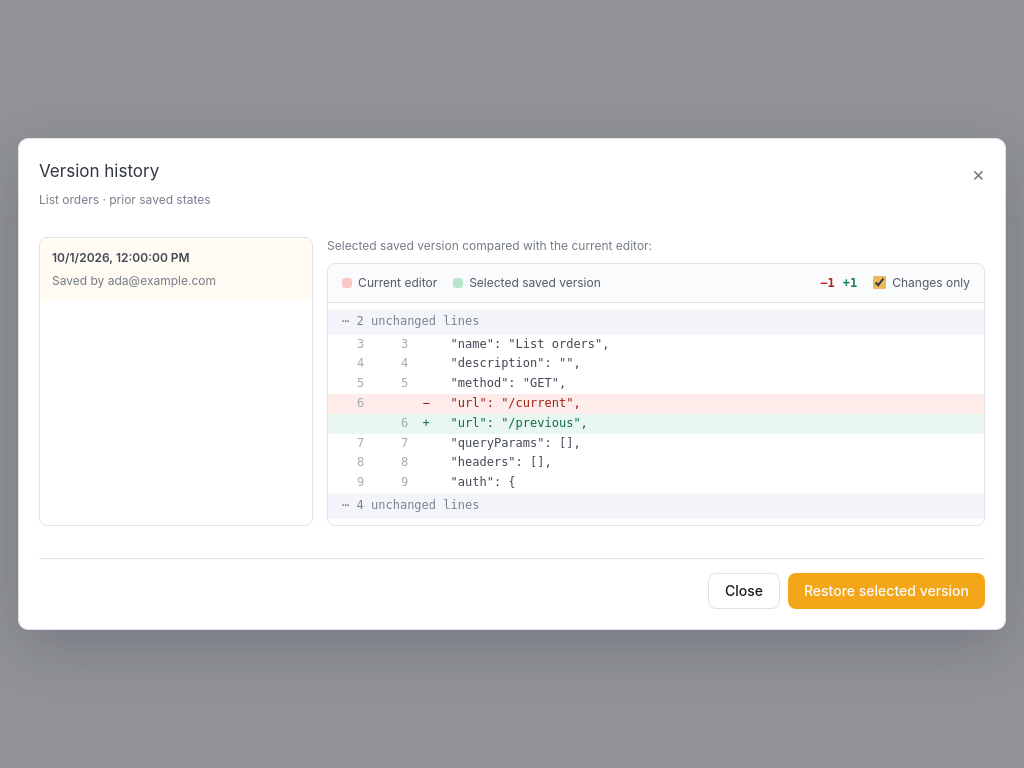
Test: resource version history › shows restore conflicts and does not update the resource on failure
The image size is (1024, 768).
Click the button "Restore selected version". click: (886, 591)
box: top-left (788, 573), bottom-right (985, 609)
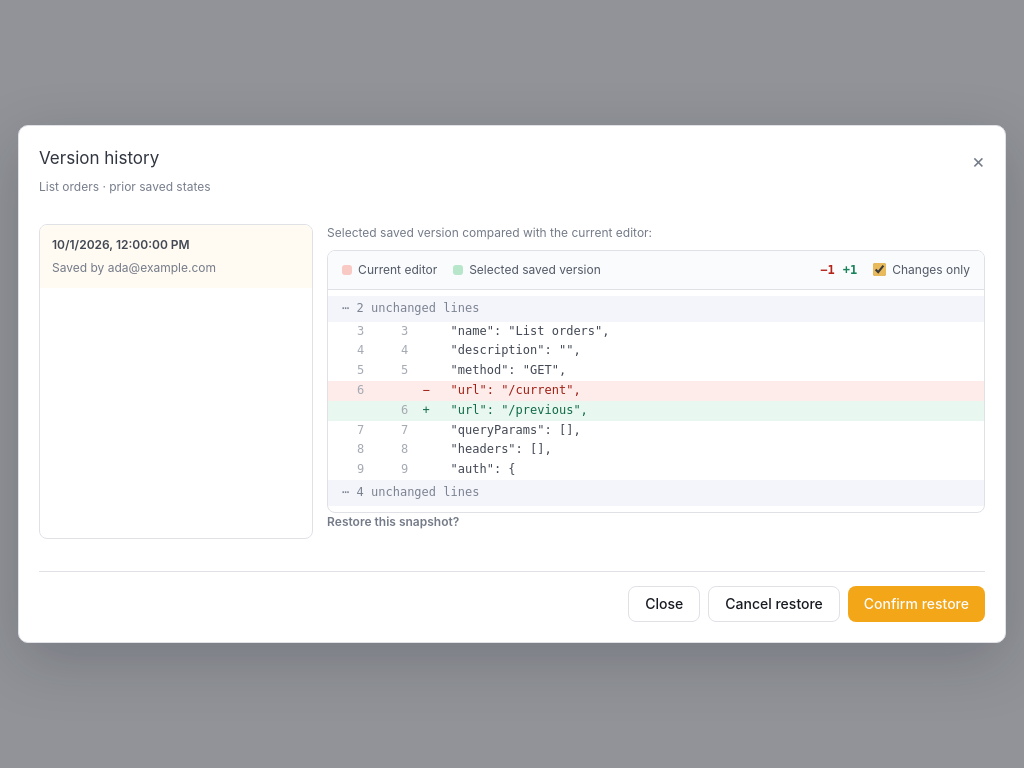
Click the button "Confirm restore". click: (916, 604)
box: top-left (848, 586), bottom-right (985, 622)
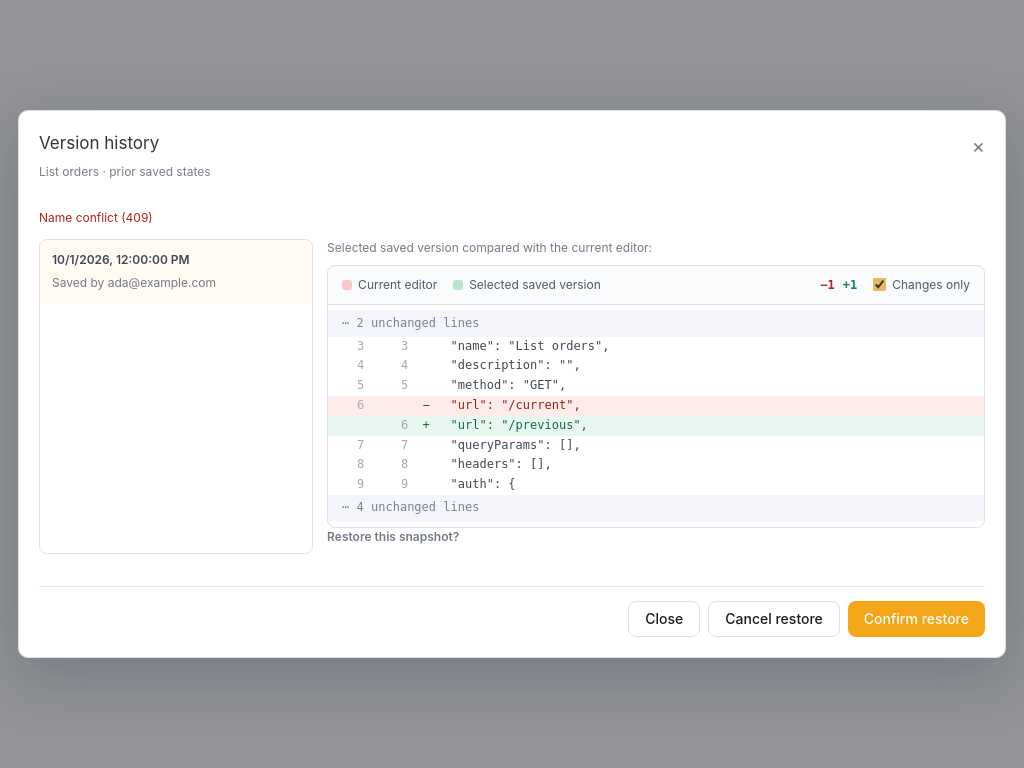
Result: the text "Name conflict (409)" is shown at top-left (39, 210), bottom-right (153, 225)
